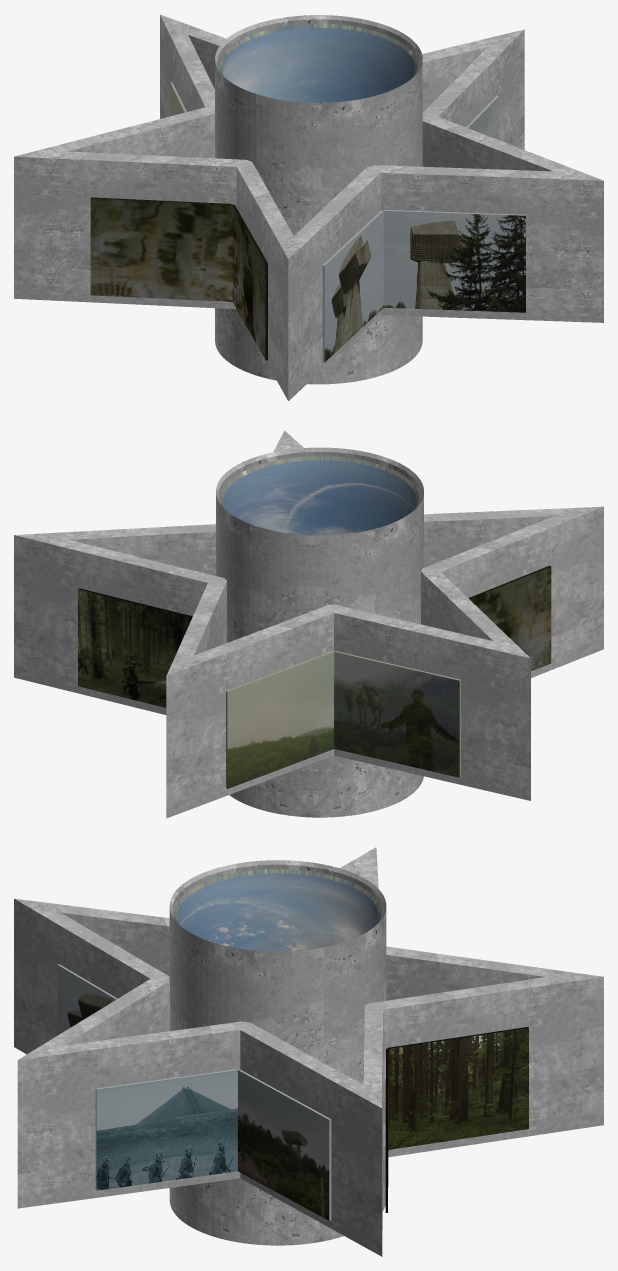
Rendered from spomenikstar.glb.
3 renders of one model, top to bottom at view 1: azimuth 30°, elevation 25°; view 2: azimuth 150°, elevation 25°; view 3: azimuth 270°, elevation 25°, orthographic. The views are drawn at different scales.
Parts seen in each view (by area): view 1: TWE - 3D-Ansicht - 3D-Ansicht 4.001, Cylinder.002, videotarget, mostar, Cylinder.001, mitrovica; view 2: TWE - 3D-Ansicht - 3D-Ansicht 4.001, Cylinder.002, tjentiste, Cylinder.001, kozara, mostar; view 3: TWE - 3D-Ansicht - 3D-Ansicht 4.001, Cylinder.002, mitrovica, kozara, Cylinder.001, videotarget.
Part boxes in pixels (x1,y1,x2,y2): TWE - 3D-Ansicht - 3D-Ansicht 4.001: [14, 14, 603, 400]; Cylinder.002: [215, 15, 422, 384]; videotarget: [322, 209, 525, 362]; mostar: [90, 197, 267, 360]; Cylinder.001: [220, 23, 417, 102]; mitrovica: [466, 95, 498, 139]; TWE - 3D-Ansicht - 3D-Ansicht 4.001: [14, 430, 603, 818]; Cylinder.002: [216, 447, 423, 817]; tjentiste: [226, 651, 460, 788]; Cylinder.001: [221, 456, 419, 535]; kozara: [78, 588, 192, 707]; mostar: [468, 565, 551, 671]; TWE - 3D-Ansicht - 3D-Ansicht 4.001: [14, 847, 603, 1256]; Cylinder.002: [169, 860, 386, 1245]; mitrovica: [95, 1069, 331, 1220]; kozara: [385, 1027, 528, 1212]; Cylinder.001: [174, 869, 381, 951]; videotarget: [57, 964, 117, 1035].
Bounding box in the file's own units: 13.96 × 7.32 × 13.32.
8 materials, 8 textured.
